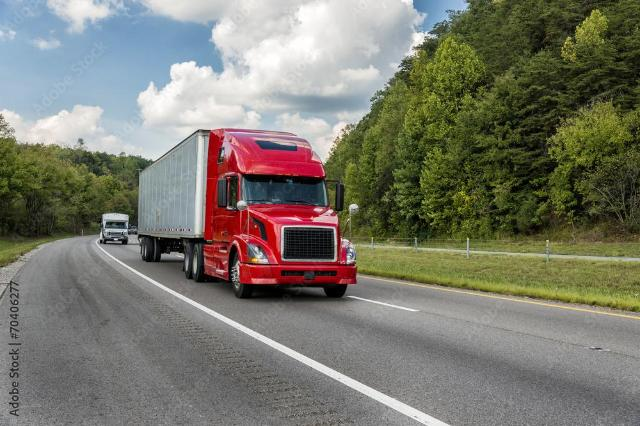truck: (127, 119, 366, 306)
